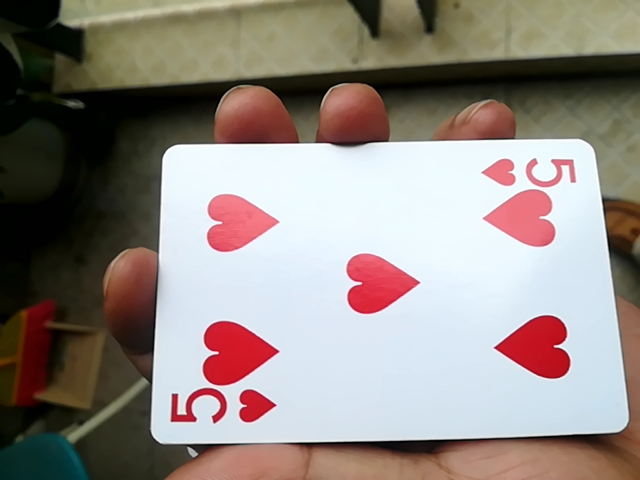hx 5: (140, 131, 616, 452)
